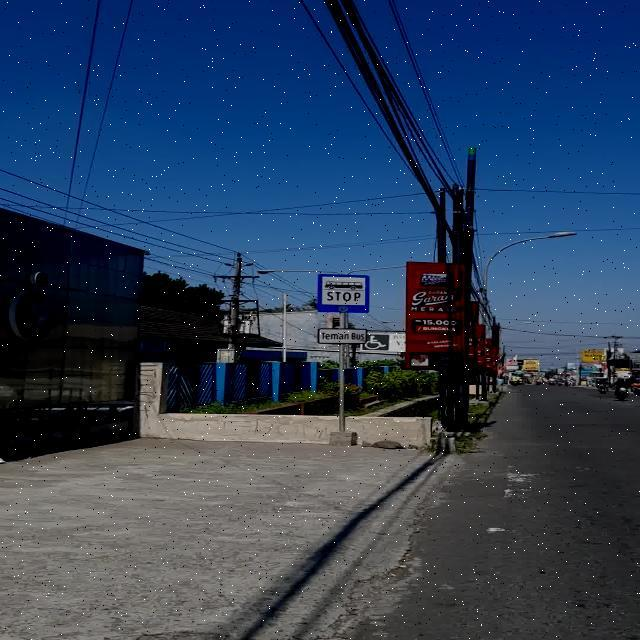Pemberhentian Bus: (317, 273, 370, 313)
